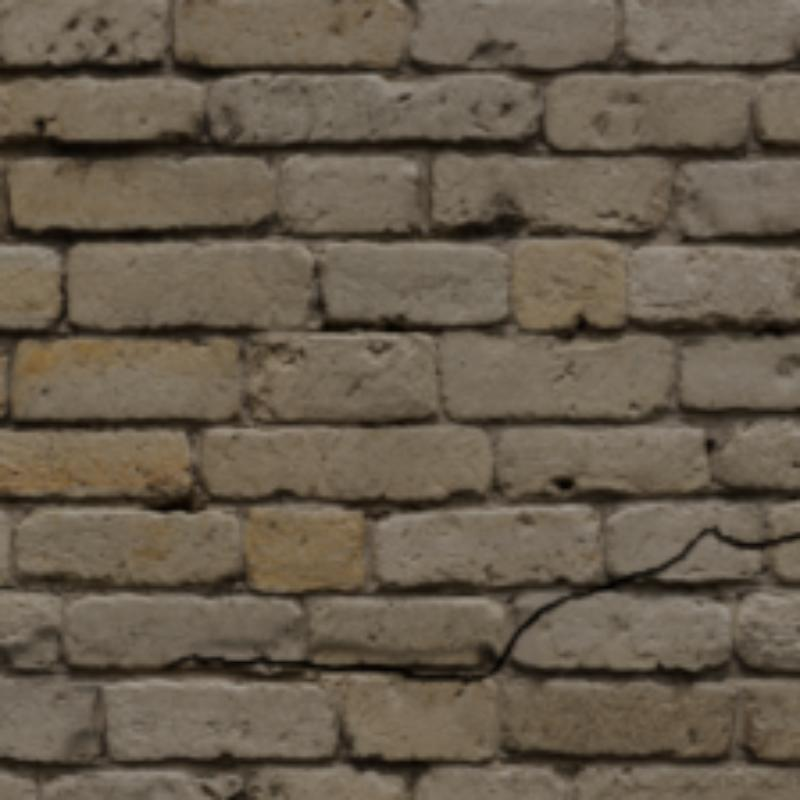crack: (225, 525, 796, 679)
